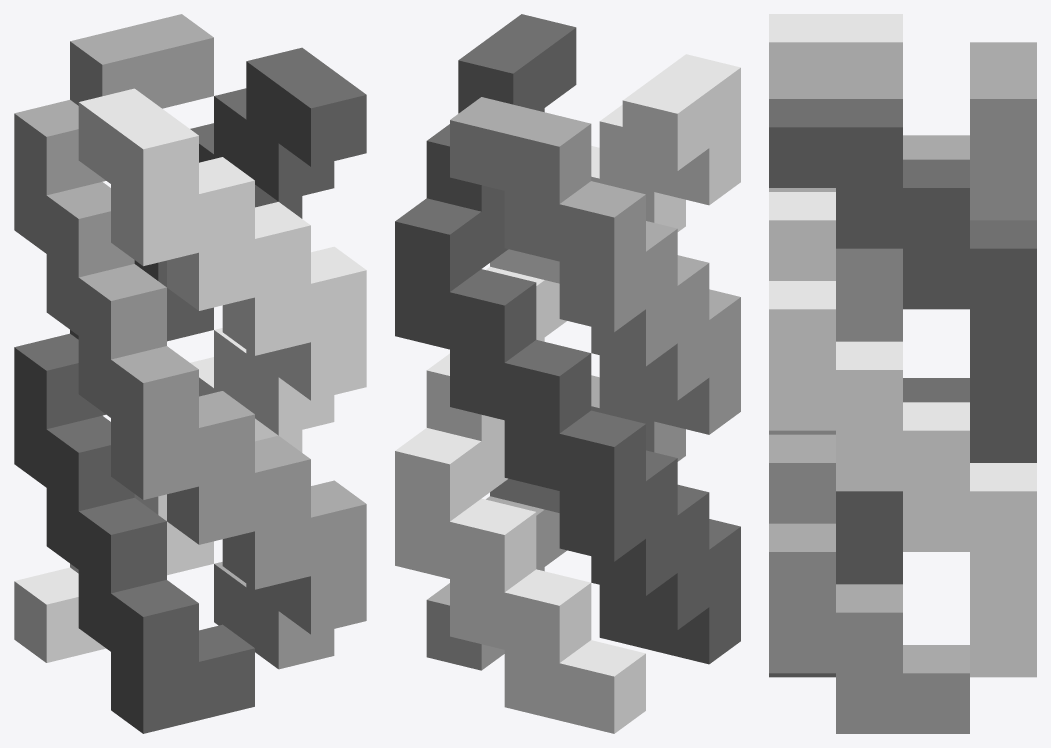
The model's file is vline3.obj.
3 views of the same model, side by side, from view 1: azimuth 30°, elevation 25°; view 2: azimuth 150°, elevation 25°; view 3: azimuth 270°, elevation 25° (orthographic). The views are drawn at different scales.
Size of the model in its own units: 0.4 by 1 by 0.4.
Materials: 1 (1 with a texture image).
